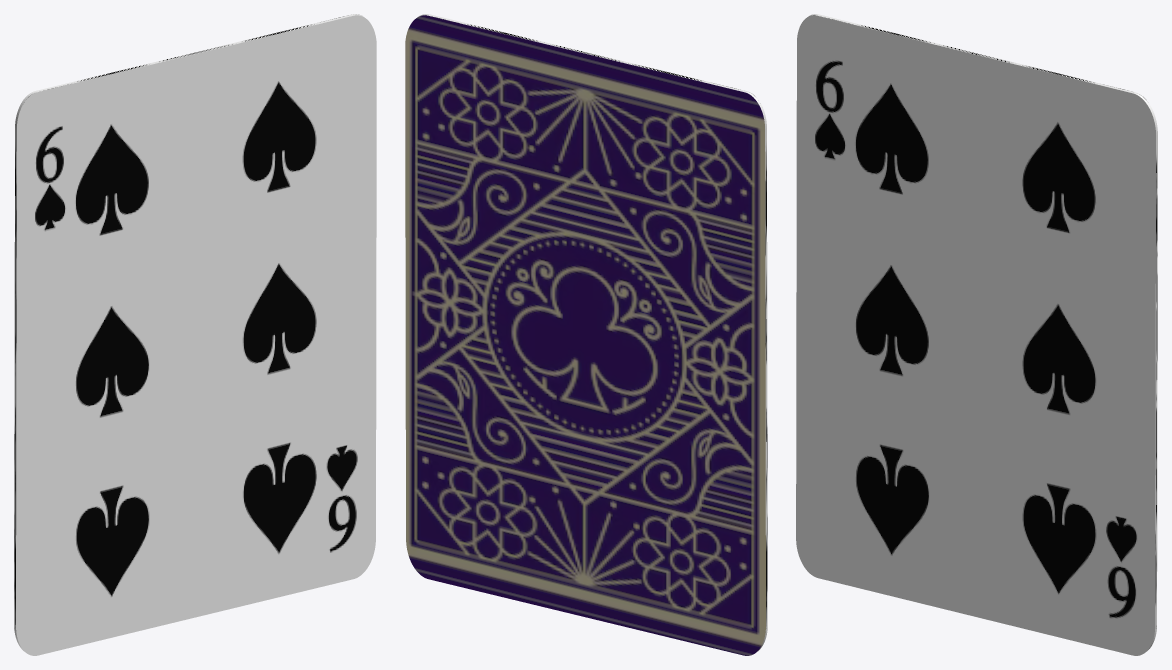
Rendered from 6picas.glb.
The picture shows the model from 3 angles, left to right: view 1: azimuth 30°, elevation 25°; view 2: azimuth 150°, elevation 25°; view 3: azimuth 330°, elevation 25°; orthographic projection.
Parts seen in each view (by area): view 1: Cubo.013; view 2: Cubo.013; view 3: Cubo.013.
Part boxes in pixels (bbox=[...]): Cubo.013: bbox=[14, 14, 376, 655]; Cubo.013: bbox=[405, 14, 767, 655]; Cubo.013: bbox=[796, 14, 1157, 655].
Bounding box in the file's own units: 7.36 × 11 × 0.065.
3 materials, 3 textured.
